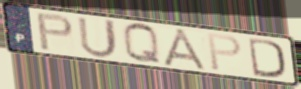A: (161, 27, 212, 73)
D: (246, 36, 288, 80)
P: (35, 12, 76, 53), (206, 32, 244, 73)
Q: (121, 21, 163, 66)
U: (75, 15, 120, 60)
